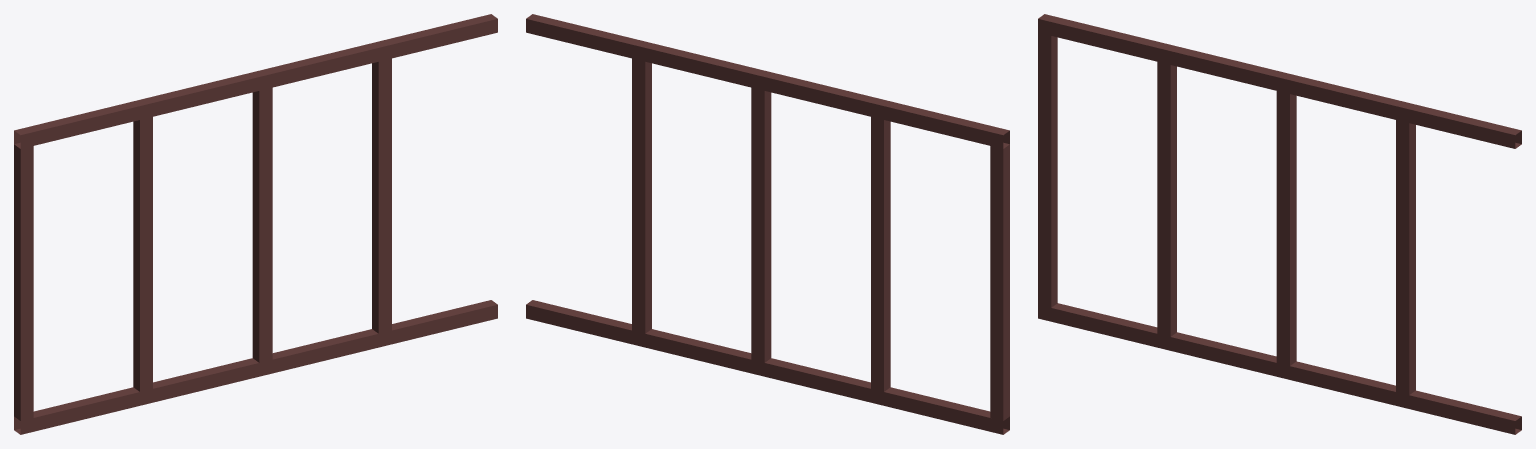
File: DBK_WinWide_Metal_Long_End.fbx
3 views of the same model, side by side, from view 1: azimuth 30°, elevation 25°; view 2: azimuth 150°, elevation 25°; view 3: azimuth 330°, elevation 25° (orthographic).
Visible parts, largest first — view 1: DBK_WinWide_Metal_Long_End; view 2: DBK_WinWide_Metal_Long_End; view 3: DBK_WinWide_Metal_Long_End.
Boxes of the visible parts, left/top/right/bottom form: DBK_WinWide_Metal_Long_End: left=14, top=14, right=497, bottom=434; DBK_WinWide_Metal_Long_End: left=526, top=14, right=1009, bottom=434; DBK_WinWide_Metal_Long_End: left=1038, top=14, right=1521, bottom=434.
Size of the model in its own units: 200 by 120 by 4.75.
